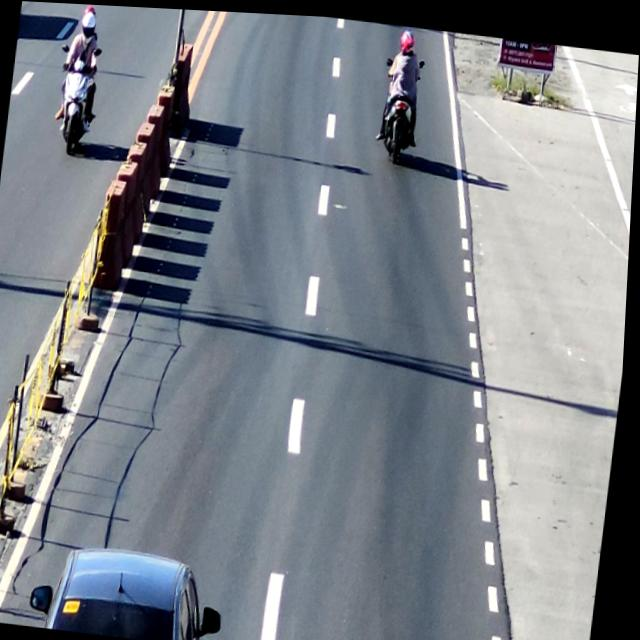Car: (31, 545, 235, 640)
Motorcycle: (376, 20, 429, 161)
